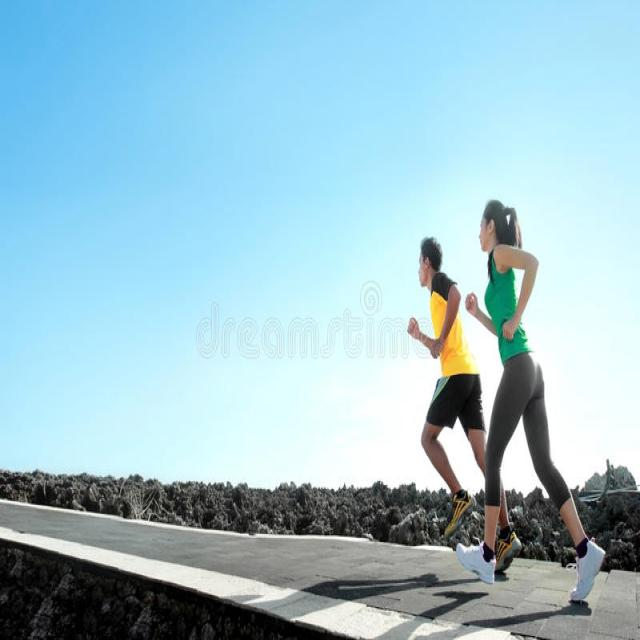running: (485, 195, 609, 603), (404, 237, 481, 540)
